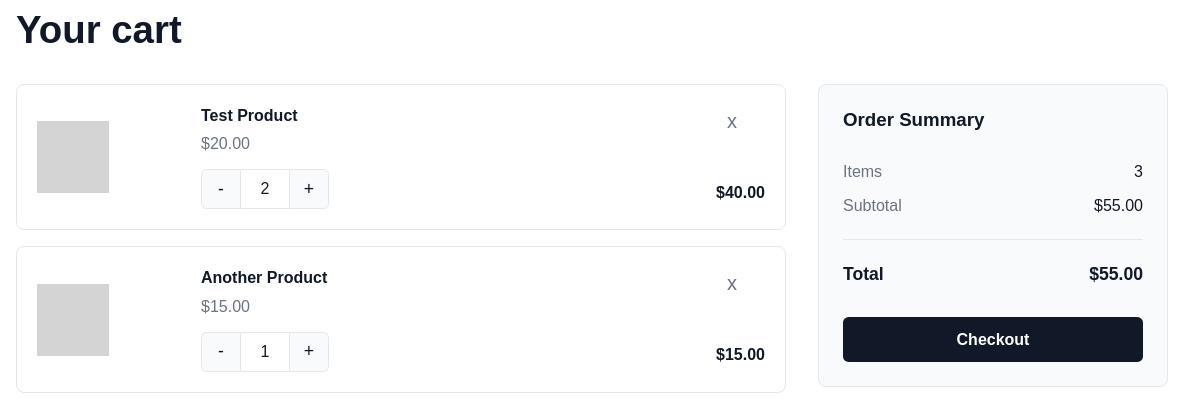
Test: Cart › clears the cart after checkout
Click the button "Checkout" at (993, 340), box [843,317,1143,362]
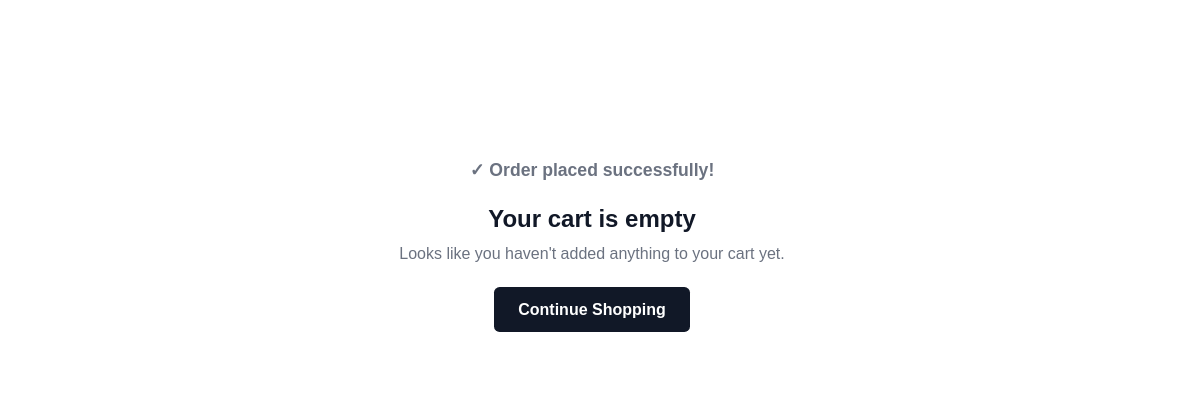
Now the heading "Your cart is empty" is shown, box [488,205,696,233]
